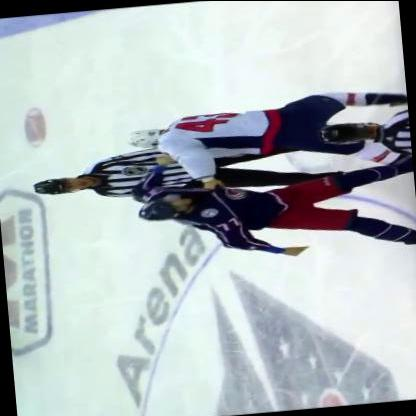voilence: (124, 84, 415, 272)
